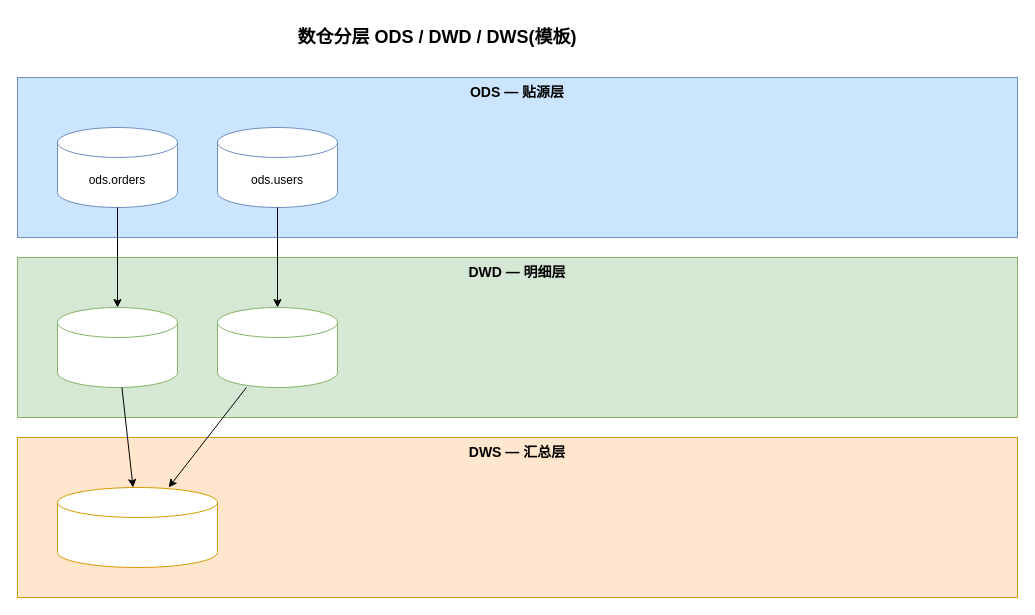
The diagram is 1035 pixels wide and 615 high, and some of its shapes have lost their labels. The centre of each missing label's shape, as x and y in pixels:
"dwd.orders_clean" goes at [117,347].
"dwd.user_profile" goes at [277,347].
"dws.user_order_summary" goes at [137,527].
